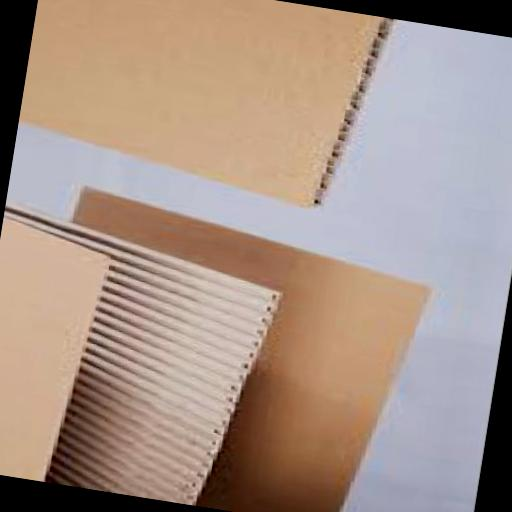cardboard: (28, 182, 436, 512), (0, 199, 289, 512), (13, 0, 392, 215)
